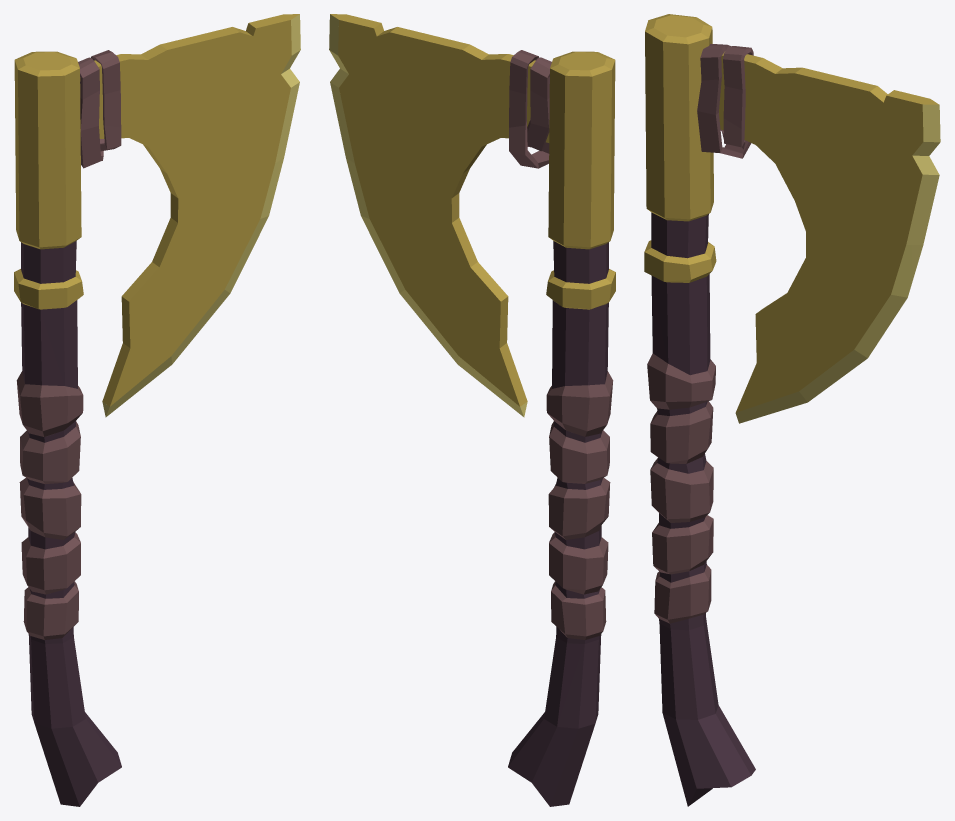
File: Axe_small_Golden.glb
3 renders of one model, left to right at view 1: azimuth 30°, elevation 25°; view 2: azimuth 150°, elevation 25°; view 3: azimuth 330°, elevation 25°, orthographic. The views are drawn at different scales.
Parts seen in each view (by area): view 1: Axe_small_Golden; view 2: Axe_small_Golden; view 3: Axe_small_Golden.
Boxes of the visible parts, x1=… form: Axe_small_Golden: x1=14, y1=14, x2=300, y2=806; Axe_small_Golden: x1=329, y1=14, x2=615, y2=806; Axe_small_Golden: x1=644, y1=14, x2=940, y2=806.
Bounding box in the file's own units: 0.6236 × 1.57 × 0.1322.
